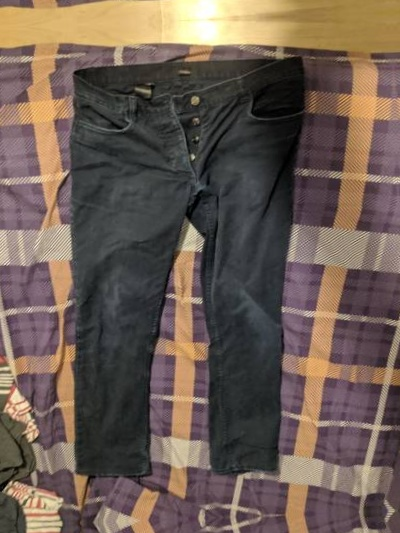Pants: (44, 44, 351, 478)
